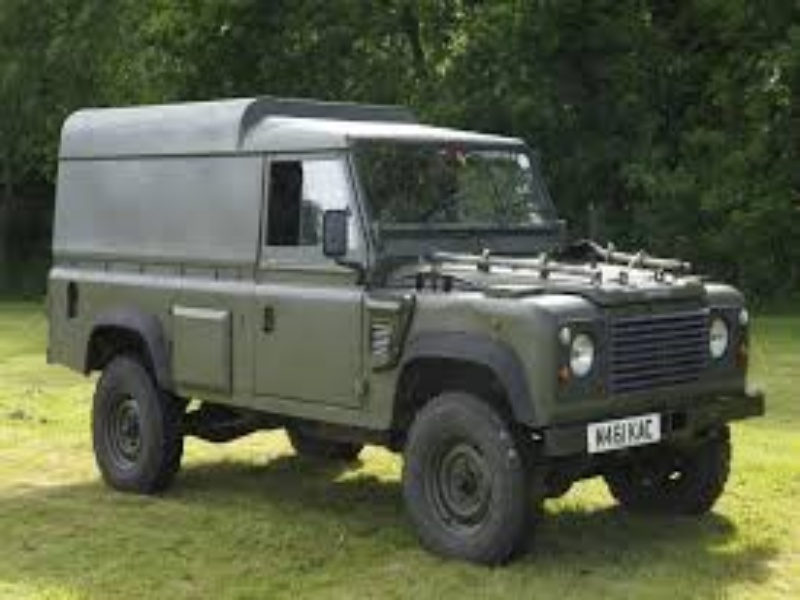jeep: (42, 93, 768, 567)
